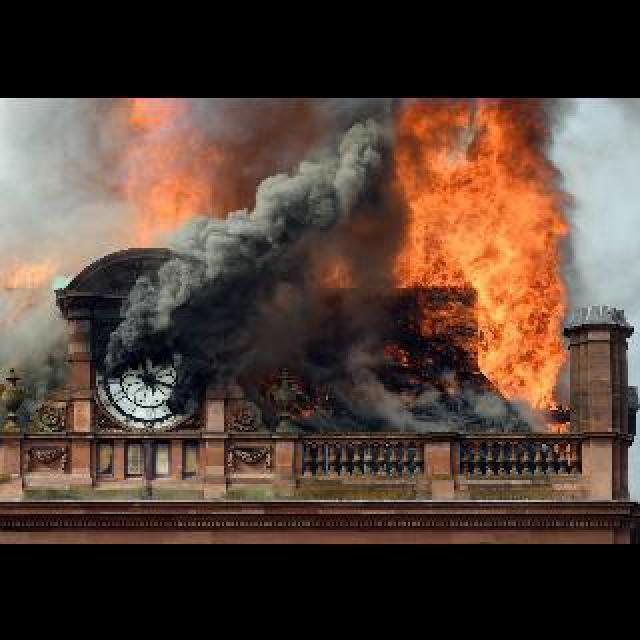Fire: (390, 96, 600, 378), (122, 96, 216, 240), (4, 256, 50, 298)
Smoke: (90, 224, 402, 432), (216, 96, 394, 240), (304, 370, 552, 440)
